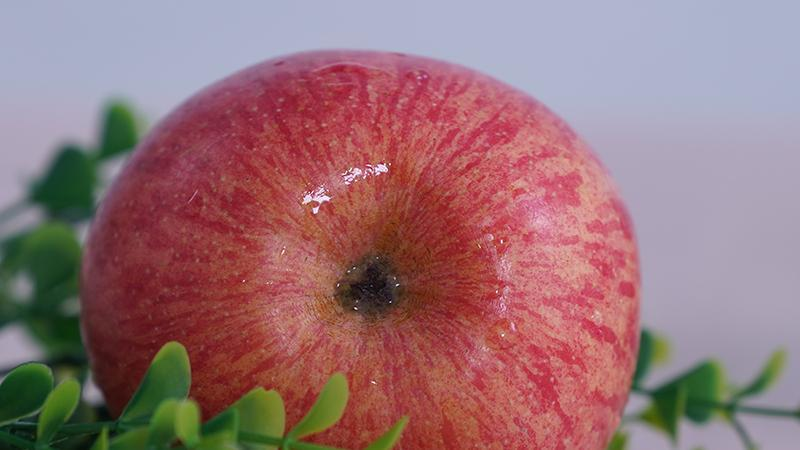apple: (81, 47, 641, 445)
